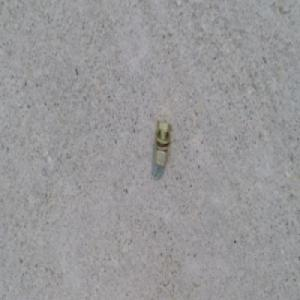BoltNutSet: (152, 119, 173, 166)
